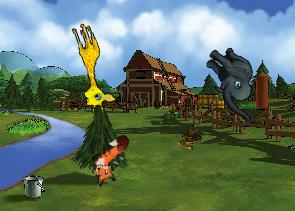elephant: (188, 40, 277, 124)
fox: (81, 131, 143, 190)
giraffe: (60, 20, 118, 115)
